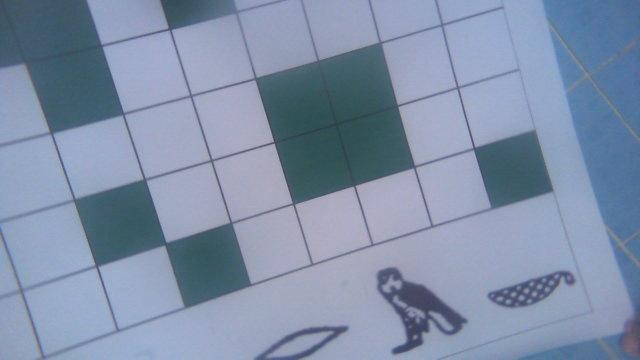Basket: (487, 267, 579, 315)
Mouth: (254, 321, 353, 360)
Owl: (371, 265, 471, 357)
